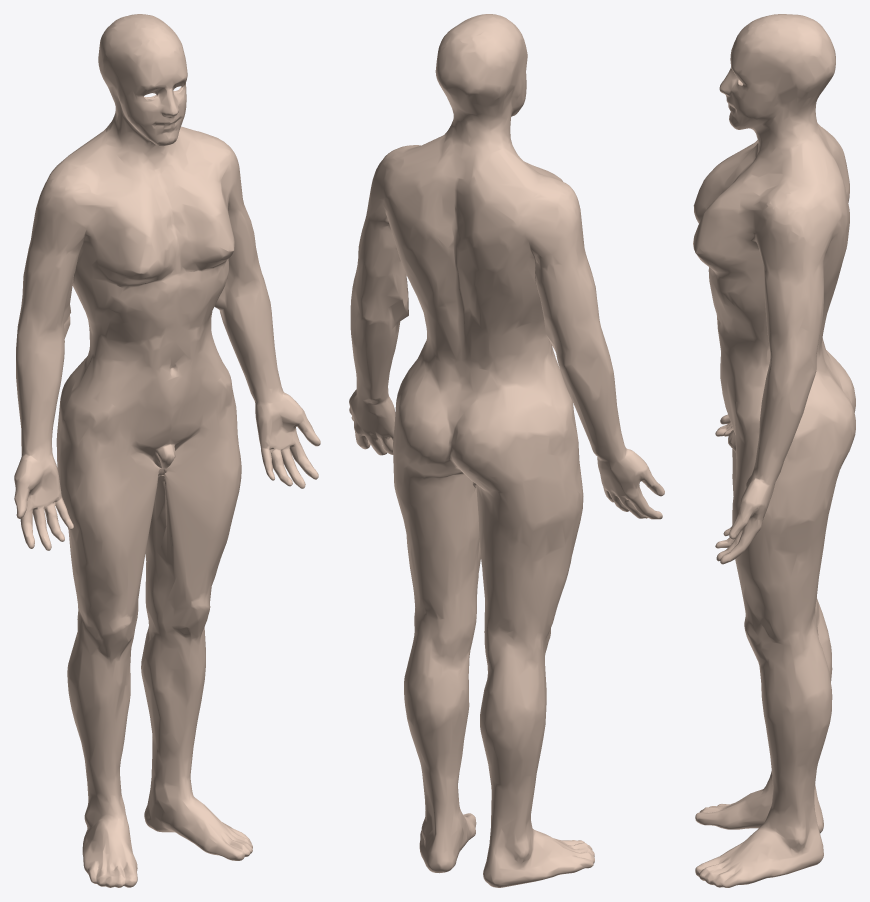
Rendered from body-female.glb.
3 views of the same model, side by side, from view 1: azimuth 30°, elevation 25°; view 2: azimuth 150°, elevation 25°; view 3: azimuth 270°, elevation 25° (orthographic). The views are drawn at different scales.
Visible parts, largest first — view 1: Body; view 2: Body; view 3: Body.
Part boxes in pixels (bbox=[...]): Body: bbox=[14, 14, 320, 887]; Body: bbox=[349, 14, 664, 887]; Body: bbox=[693, 14, 855, 887].
Size of the model in its own units: 0.6301 by 1.64 by 0.2904.
